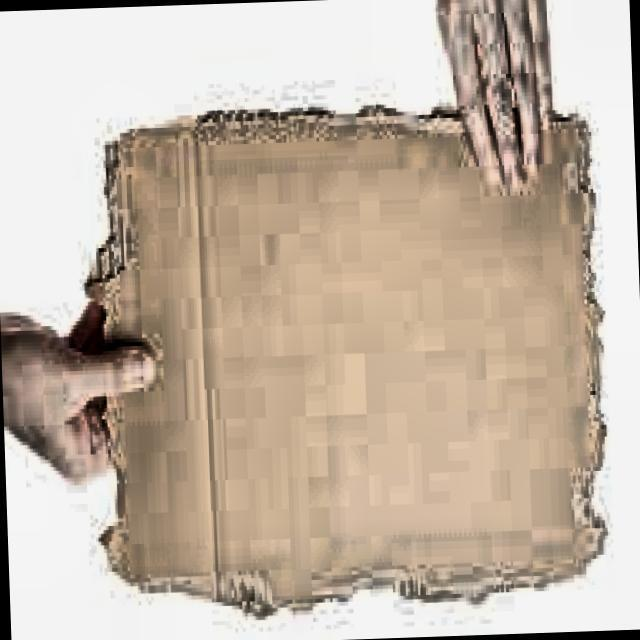cardboard: (76, 97, 615, 629)
